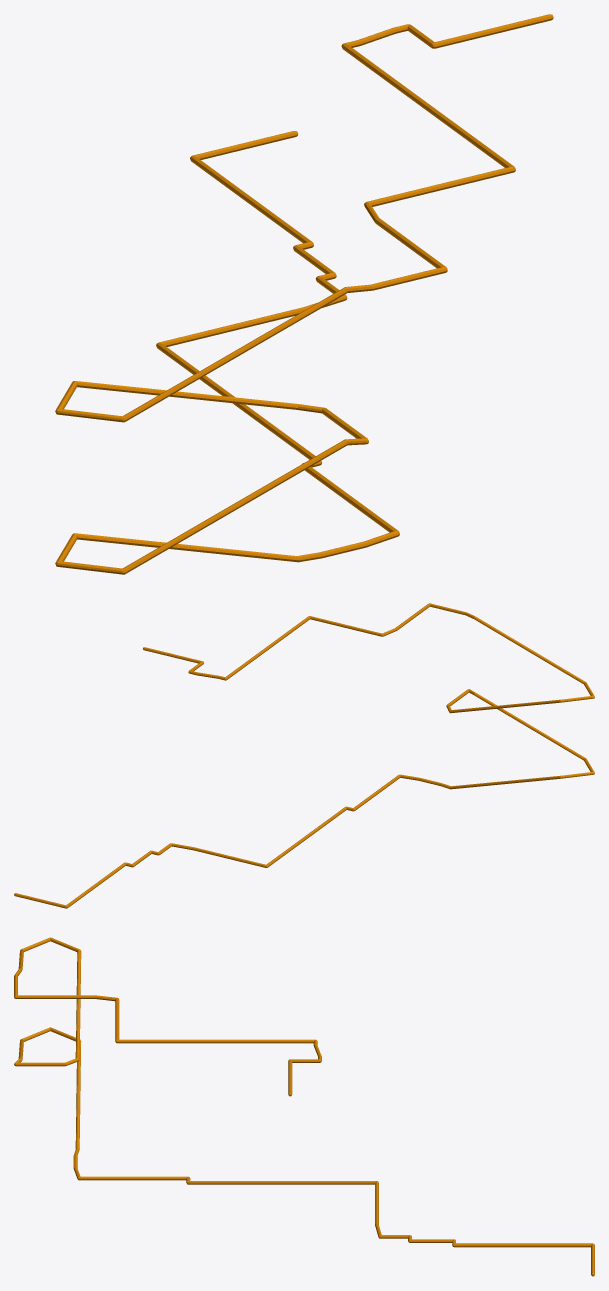
The picture shows the model from 3 angles, top to bottom: view 1: azimuth 30°, elevation 25°; view 2: azimuth 150°, elevation 25°; view 3: azimuth 270°, elevation 25°; orthographic projection. The views are drawn at different scales.
Bounding box in the file's own units: 2412 × 1020 × 2929.
